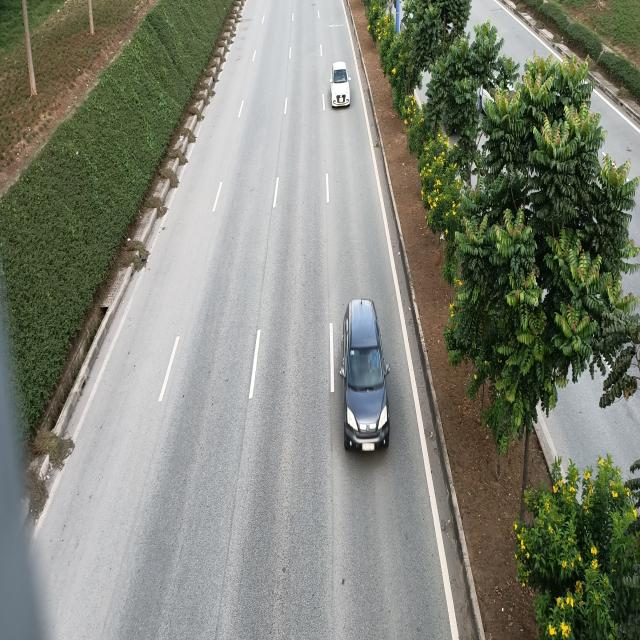car: (338, 297, 390, 450), (330, 61, 352, 108)
